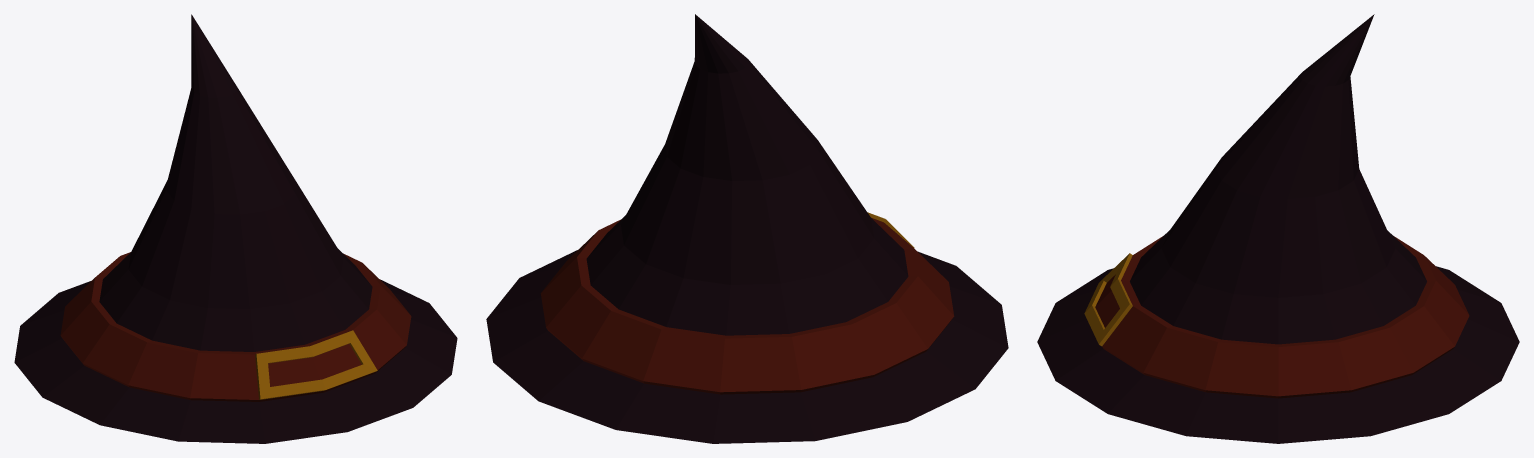
Rendered from witch hat.fbx.
3 renders of one model, left to right at view 1: azimuth 30°, elevation 25°; view 2: azimuth 150°, elevation 25°; view 3: azimuth 270°, elevation 25°, orthographic. The views are drawn at different scales.
Visible parts, largest first — view 1: Cylinder; view 2: Cylinder; view 3: Cylinder.
Boxes of the visible parts, x1,y1,x2,y2 form: Cylinder: (14,14,457,443); Cylinder: (486,14,1008,443); Cylinder: (1037,14,1519,443).
Bounding box in the file's own units: 0.5336 × 0.4002 × 0.5336.
